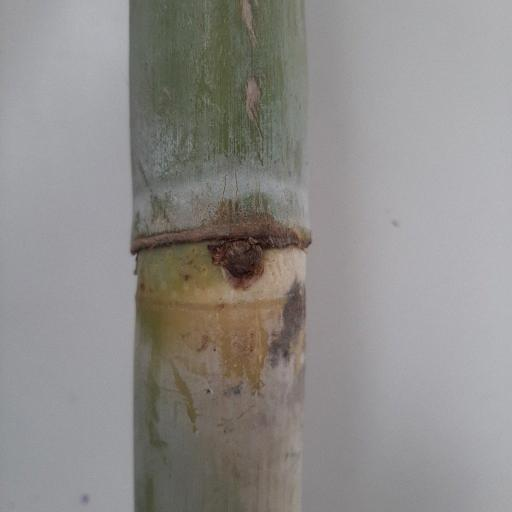Bud: (223, 240, 261, 283)
